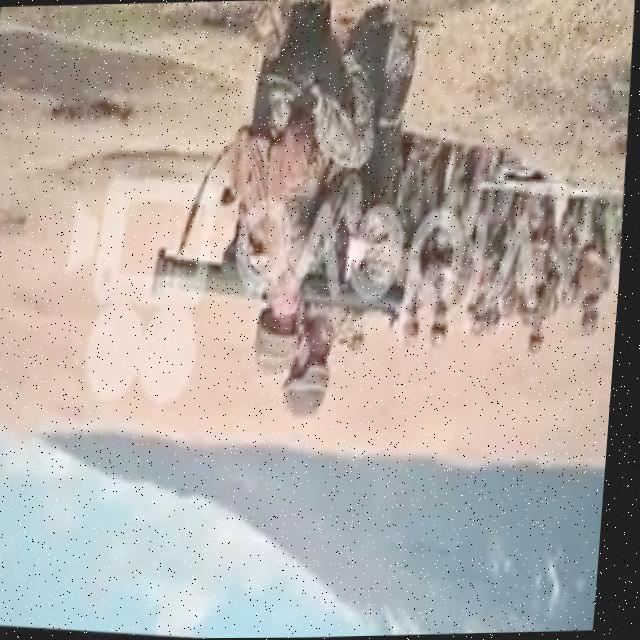rocket: (149, 245, 413, 329)
